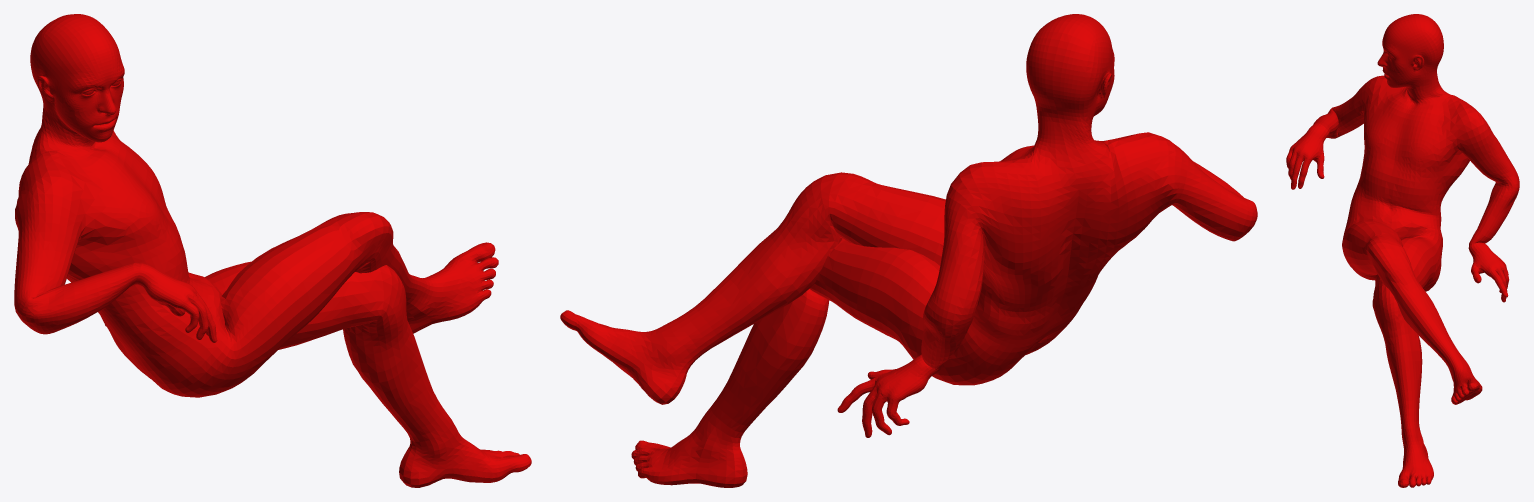
The model's file is pose_original_7.obj.
3 renders of one model, left to right at view 1: azimuth 30°, elevation 25°; view 2: azimuth 150°, elevation 25°; view 3: azimuth 270°, elevation 25°, orthographic. The views are drawn at different scales.
Size of the model in its own units: 2.3 by 2.09 by 1.29.
